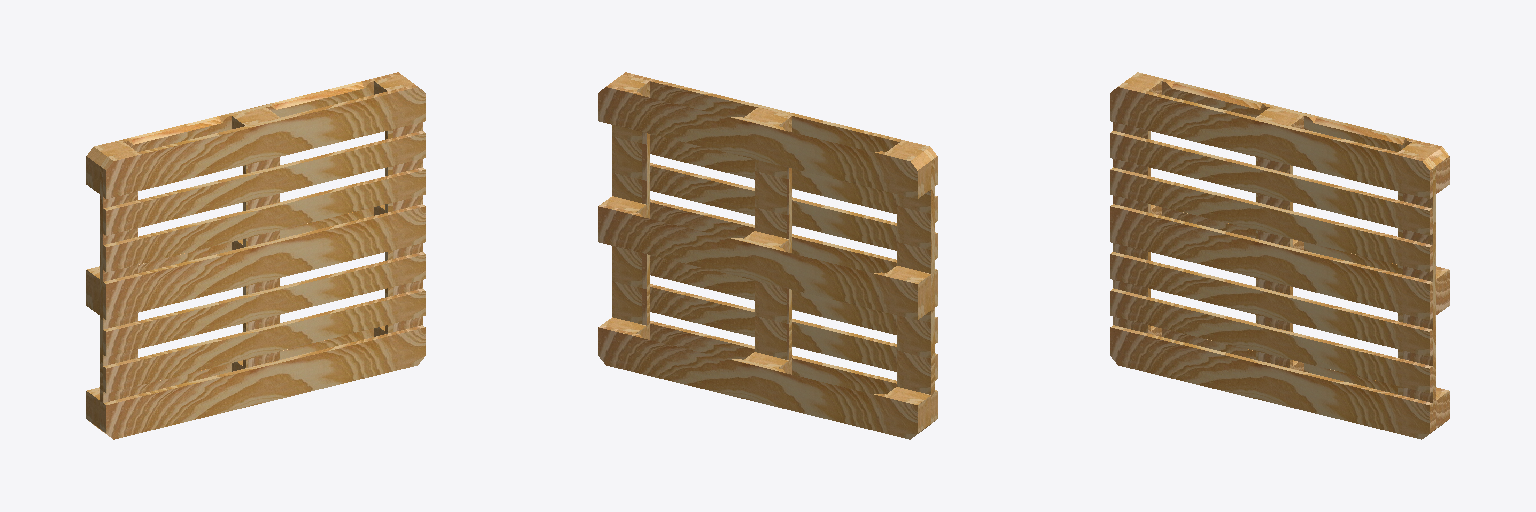
3 views of the same model, side by side, from view 1: azimuth 30°, elevation 25°; view 2: azimuth 150°, elevation 25°; view 3: azimuth 330°, elevation 25° (orthographic).
Size of the model in its own units: 47.24 by 39.37 by 5.12.
Materials: 1 (1 with a texture image).